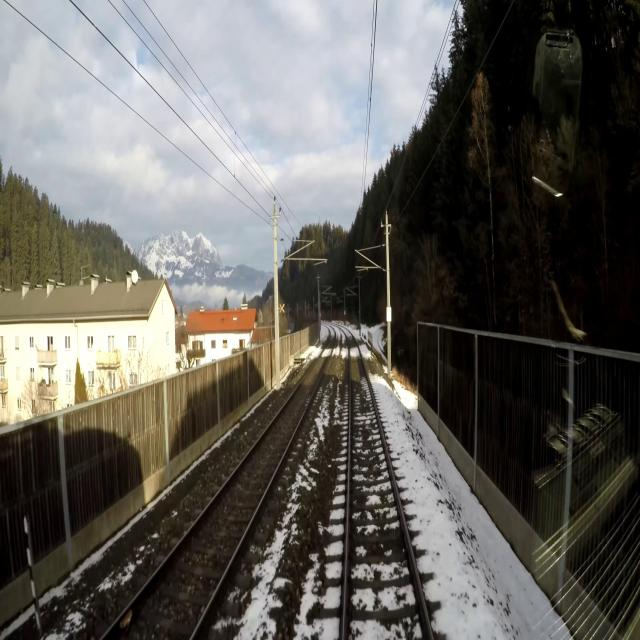rail-track: (105, 329, 334, 639), (346, 332, 428, 639)
